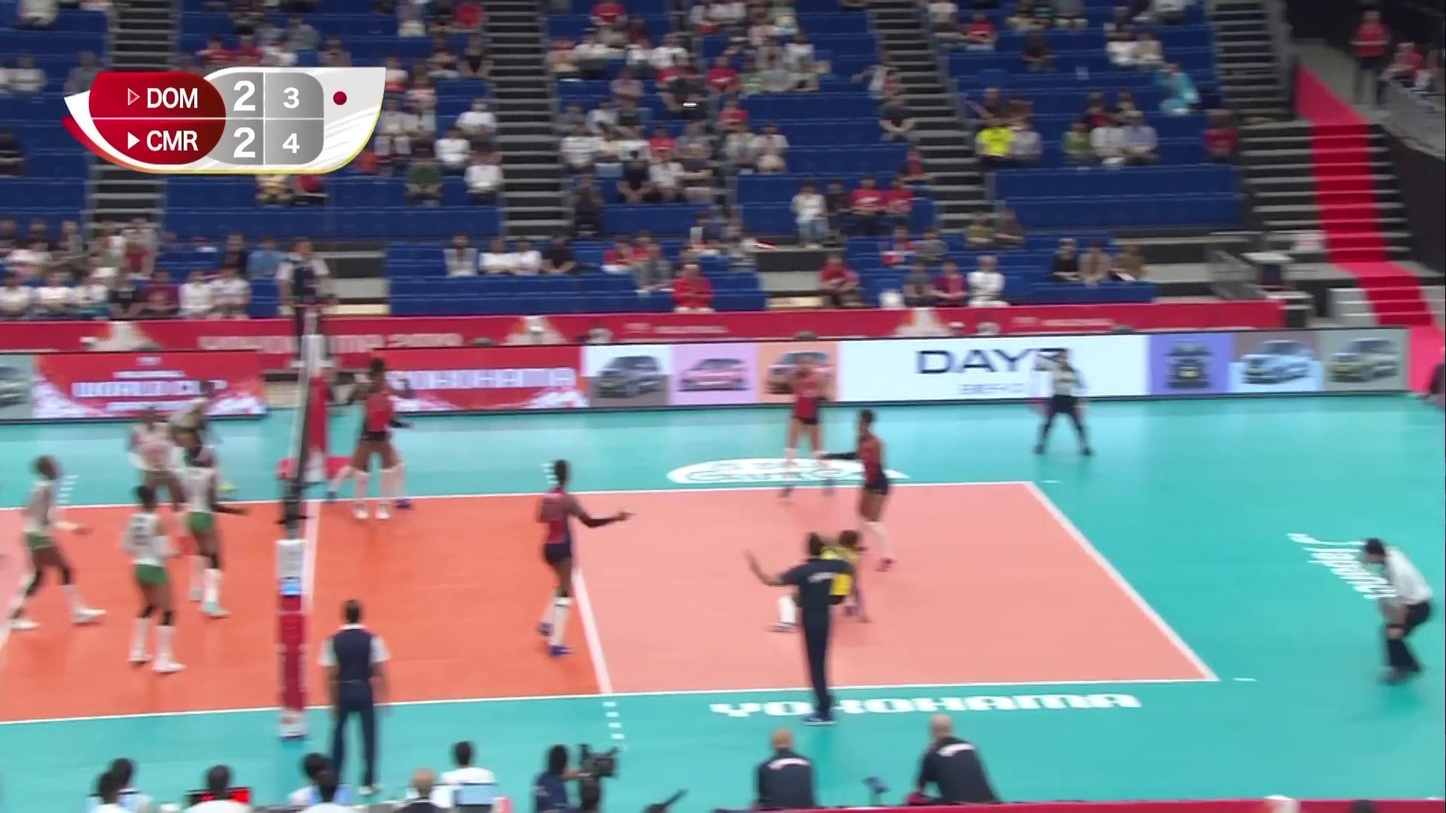player: (533, 461, 629, 656), (0, 455, 105, 631), (763, 529, 877, 629), (125, 486, 185, 671), (329, 388, 416, 512), (187, 445, 248, 620), (128, 406, 193, 560), (844, 411, 899, 570), (170, 382, 235, 514), (776, 355, 834, 498), (353, 361, 395, 530)
refree: (320, 596, 391, 793), (1360, 539, 1438, 682), (1029, 348, 1097, 458), (277, 238, 336, 362)
